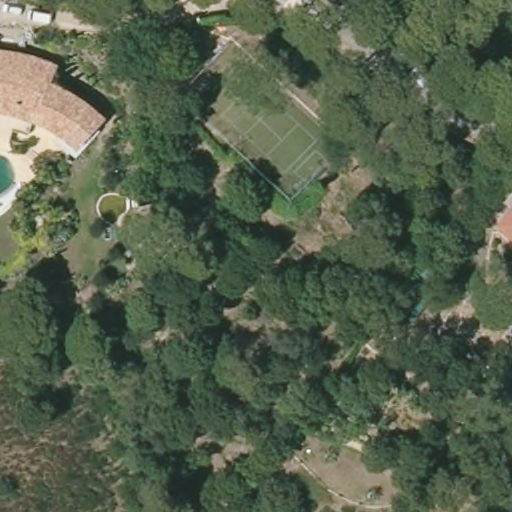pool: (1, 152, 26, 194)
